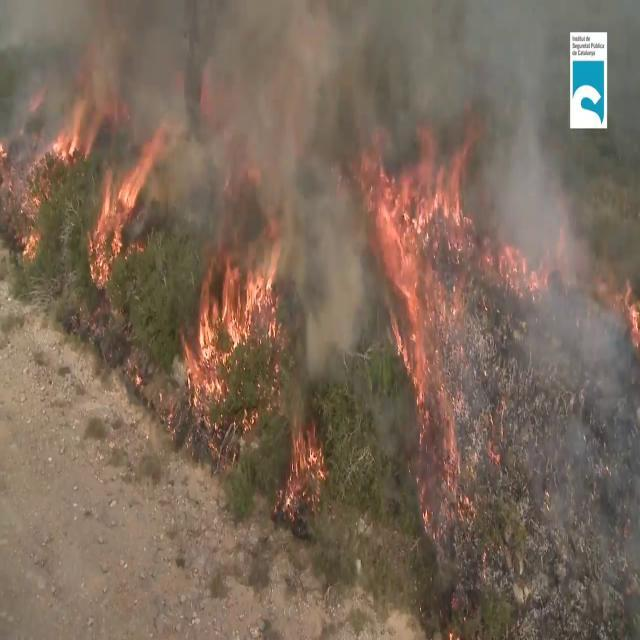Fire: (367, 122, 469, 410), (182, 228, 278, 422), (88, 122, 160, 284), (283, 414, 327, 511), (494, 230, 548, 303), (622, 268, 640, 372)
Smoke: (268, 0, 581, 373)
